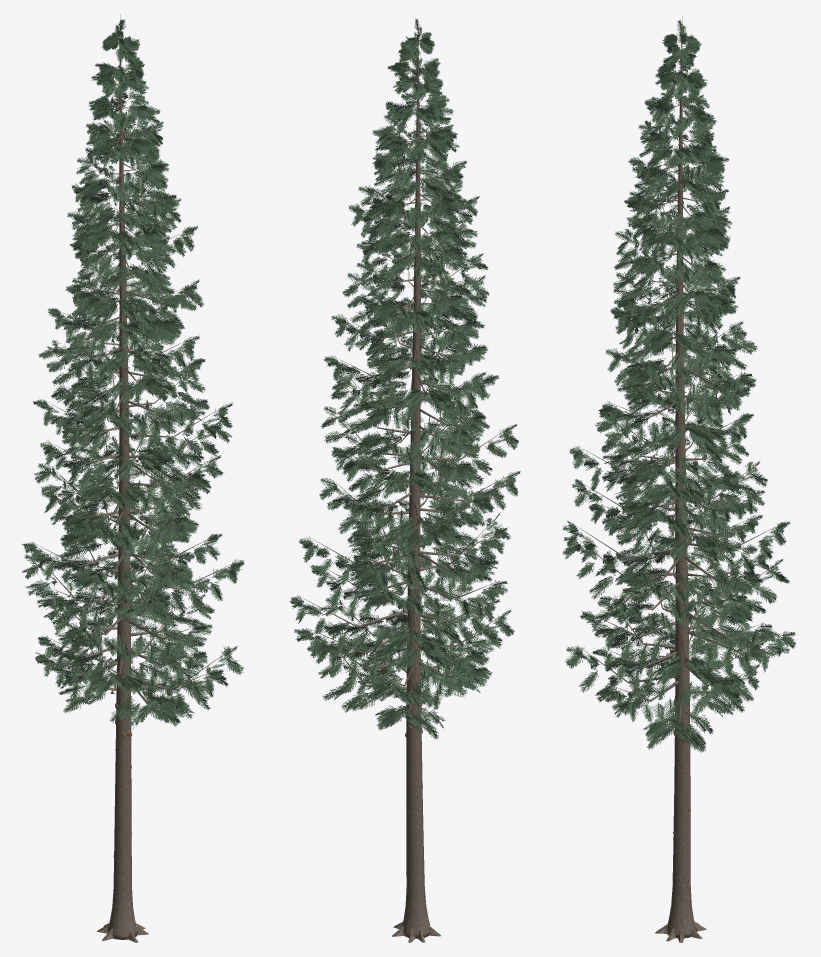
File: Sitka_Mature_Benchmark_01_LowPruned_Recent_LOD1.fbx
3 renders of one model, left to right at view 1: azimuth 30°, elevation 25°; view 2: azimuth 150°, elevation 25°; view 3: azimuth 270°, elevation 25°, orthographic.
Parts seen in each view (by area): view 1: Sitka_Mature_Benchmark_01_LowPruned_Recent_LOD1_Foliage, Sitka_Mature_Benchmark_01_LowPruned_Recent_LOD1_Trunk, Sitka_Mature_Benchmark_01_LowPruned_Recent_LOD1_Branches; view 2: Sitka_Mature_Benchmark_01_LowPruned_Recent_LOD1_Foliage, Sitka_Mature_Benchmark_01_LowPruned_Recent_LOD1_Trunk, Sitka_Mature_Benchmark_01_LowPruned_Recent_LOD1_Branches; view 3: Sitka_Mature_Benchmark_01_LowPruned_Recent_LOD1_Foliage, Sitka_Mature_Benchmark_01_LowPruned_Recent_LOD1_Trunk, Sitka_Mature_Benchmark_01_LowPruned_Recent_LOD1_Branches.
Part boxes in pixels (x1,y1,x2,y2): Sitka_Mature_Benchmark_01_LowPruned_Recent_LOD1_Foliage: (22,19,244,728); Sitka_Mature_Benchmark_01_LowPruned_Recent_LOD1_Trunk: (97,14,148,942); Sitka_Mature_Benchmark_01_LowPruned_Recent_LOD1_Branches: (40,36,231,703); Sitka_Mature_Benchmark_01_LowPruned_Recent_LOD1_Foliage: (289,19,520,739); Sitka_Mature_Benchmark_01_LowPruned_Recent_LOD1_Trunk: (392,19,440,942); Sitka_Mature_Benchmark_01_LowPruned_Recent_LOD1_Branches: (304,38,508,711); Sitka_Mature_Benchmark_01_LowPruned_Recent_LOD1_Foliage: (562,20,797,752); Sitka_Mature_Benchmark_01_LowPruned_Recent_LOD1_Trunk: (655,15,706,942); Sitka_Mature_Benchmark_01_LowPruned_Recent_LOD1_Branches: (575,45,783,724).
Bounding box in the file's own units: 620 × 2600 × 644.
Materials: 3 (3 with a texture image).
